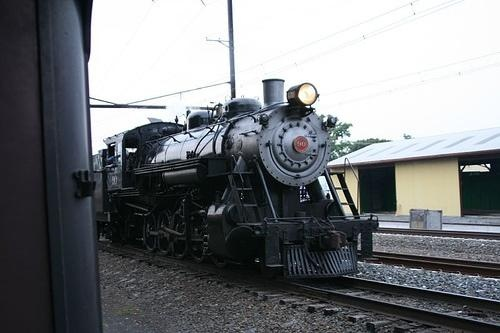train: (100, 77, 382, 281)
